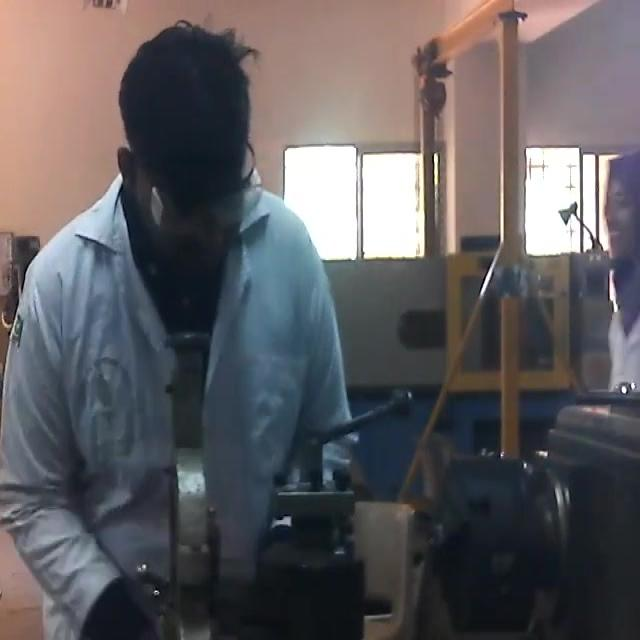googles: (148, 170, 268, 243)
labcoat: (3, 170, 351, 640)
